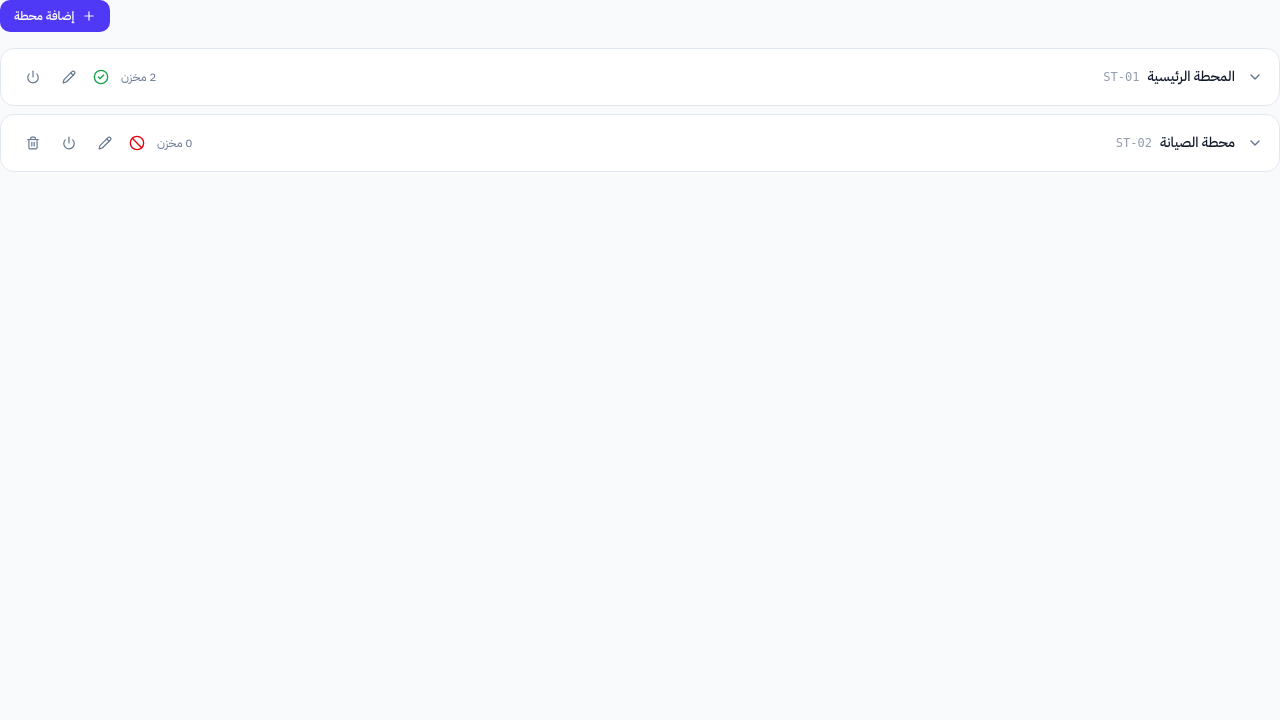
StationsWarehouses — delete › reports the RESTRICT violation in plain language when a station gained warehouses
Click the button named "حذف محطة الصيانة": [33, 143] box [17,127,49,159]
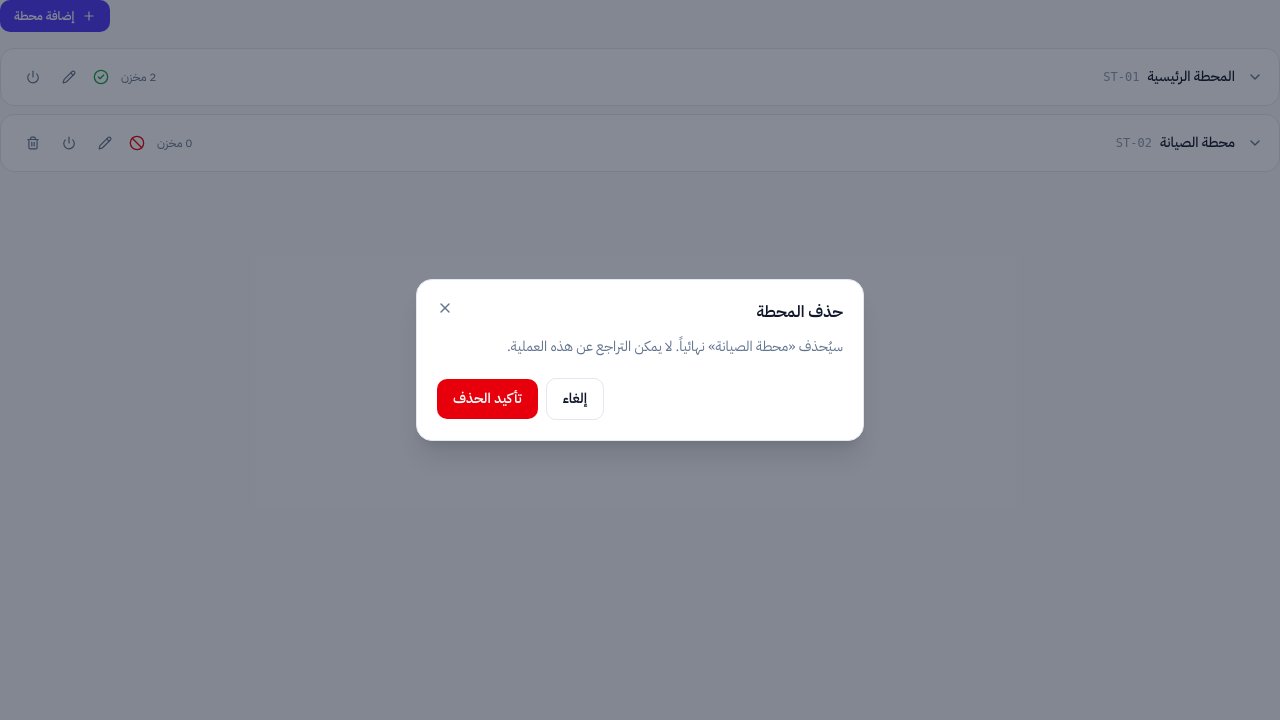
Click the button "تأكيد الحذف": [487, 399] box [437,379,538,419]
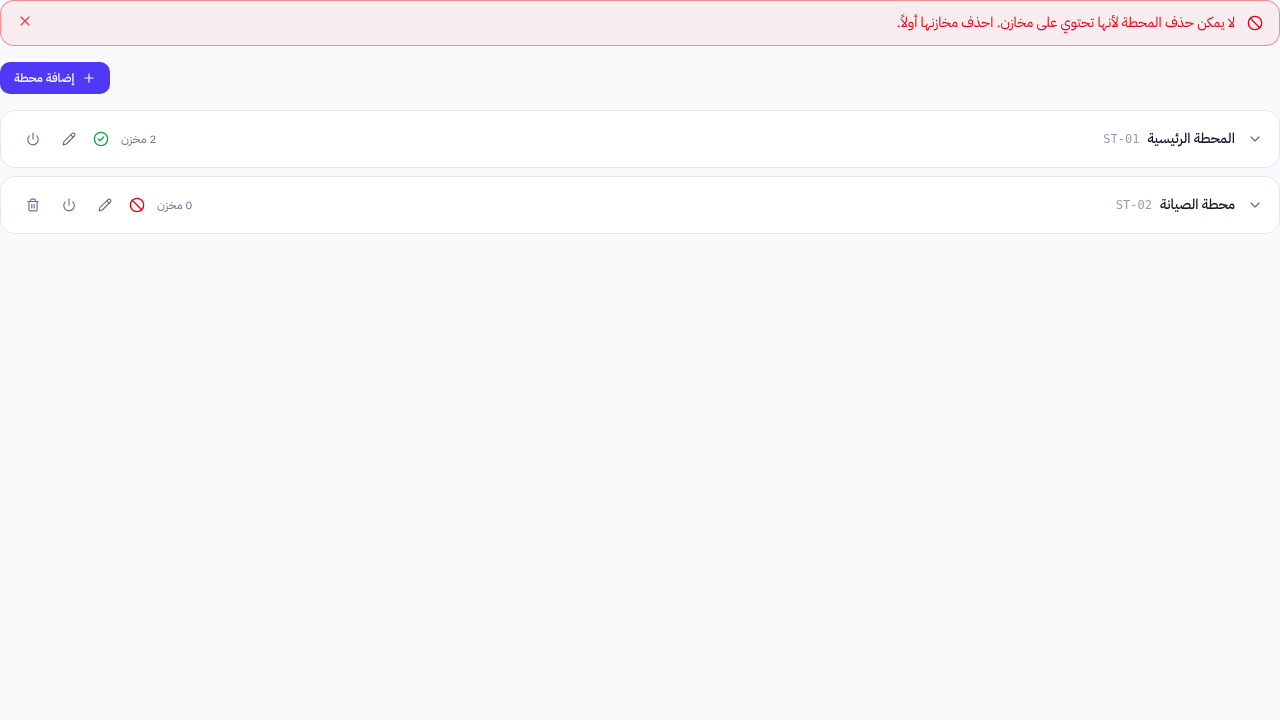
Expected: the message shows "لا يمكن حذف المحطة لأنها تحتوي على مخازن", [897,12,1235,33]
Expected: the dialog is gone
